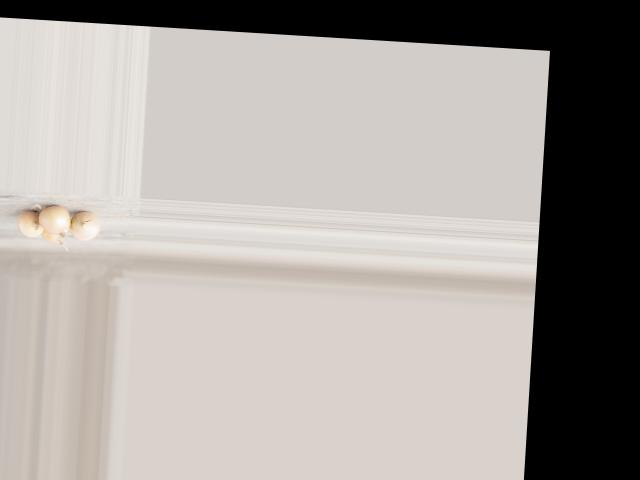onion: (38, 222, 66, 244)
